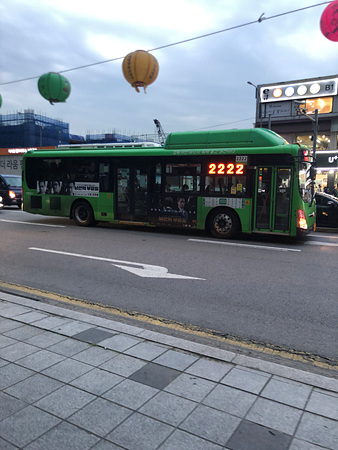entrance: (253, 165, 294, 234)
